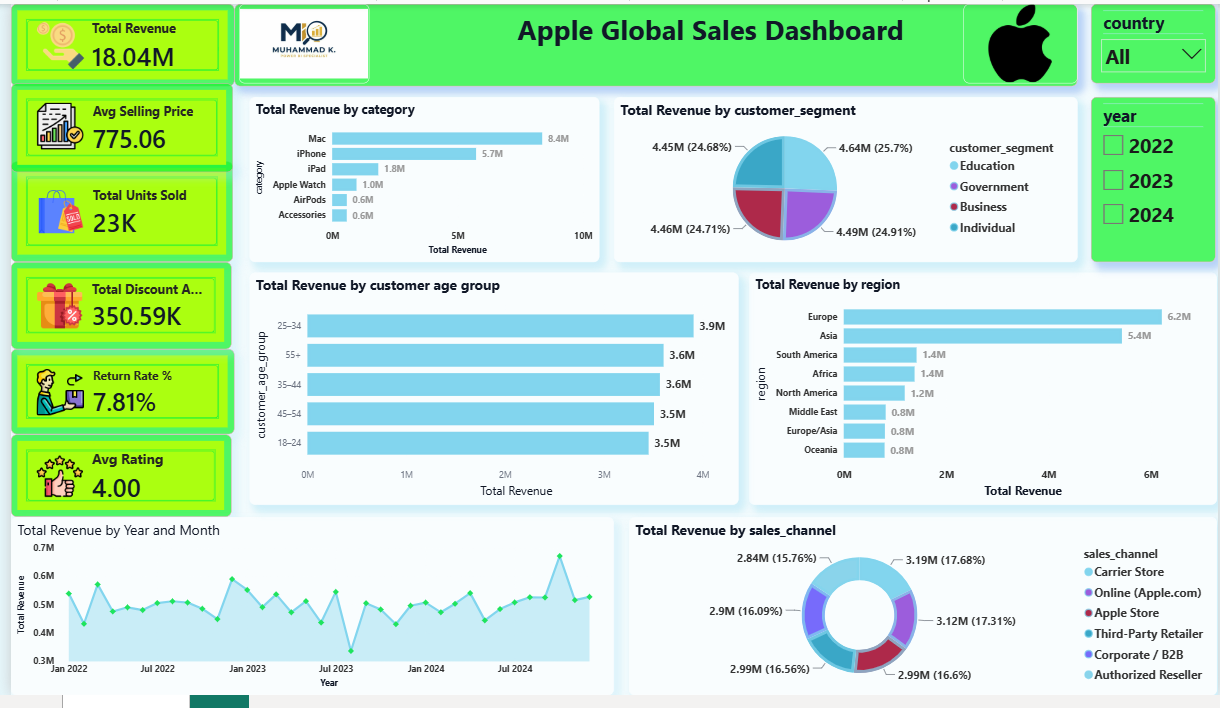

The dashboard page shown, as its layout file describes it:
{"tool":"powerbi","page":{"name":"Analysis","canvas":[1641,940],"ordinal":0},"visuals":[{"type":"cardVisual","fields":{"Data":["apple_global_sales.Total Revenue"]},"box":[0,0,304,112.2],"z":0},{"type":"group","id":"g1","title":"Group 2","box":[1470.1,0,169.4,108.2],"z":0,"group":"g2"},{"type":"slicer","fields":{"Values":["apple_global_sales.country"]},"box":[1470.1,0,169.4,108.2],"z":1000,"group":"g1"},{"type":"cardVisual","fields":{"Data":["apple_global_sales.Total Units Sold"]},"box":[0,214.3,302,136.7],"z":1000},{"type":"cardVisual","fields":{"Data":["apple_global_sales.Avg Selling Price"]},"box":[0,108.2,302,120.4],"z":2000},{"type":"cardVisual","fields":{"Data":["apple_global_sales.Return Rate %"]},"box":[0,469.3,304,116.3],"z":3000},{"type":"cardVisual","fields":{"Data":["apple_global_sales.Total Discount Amount"]},"box":[0,351,300,118.4],"z":4000},{"type":"cardVisual","fields":{"Data":["apple_global_sales.Avg Rating"]},"box":[0,585.6,300,112.2],"z":5000},{"type":"textbox","box":[304,0,1146.8,112.2],"z":6000},{"type":"image","box":[1295.8,0,155.1,108.2],"z":7000},{"type":"stackedAreaChart","fields":{"Category":["apple_global_sales.sale_date.Variation.Date Hierarchy.Year","apple_global_sales.sale_date.Variation.Date Hierarchy.Month"],"Y":["apple_global_sales.Total Revenue"]},"box":[0,697.9,820.3,242.8],"z":8000},{"type":"clusteredBarChart","fields":{"Category":["apple_global_sales.category"],"Y":["apple_global_sales.Total Revenue"]},"box":[324.5,126.5,476,224.5],"z":9000},{"type":"donutChart","fields":{"Category":["apple_global_sales.sales_channel"],"Y":["apple_global_sales.Total Revenue"]},"box":[840.7,697.9,799.9,242.8],"z":10000},{"type":"clusteredBarChart","fields":{"Category":["apple_global_sales.region"],"Y":["apple_global_sales.Total Revenue"]},"box":[1004,365.3,636.7,316.3],"z":11000},{"type":"pieChart","fields":{"Category":["apple_global_sales.customer_segment"],"Y":["apple_global_sales.Total Revenue"]},"box":[820.3,126.5,630.5,224.5],"z":12000},{"type":"clusteredBarChart","title":"Total Revenue by customer age group","fields":{"Category":["apple_global_sales.customer_age_group"],"Y":["apple_global_sales.Total Revenue"]},"box":[324.5,365.3,665.2,316.3],"z":13000},{"type":"group","id":"g2","title":"Group 1","box":[1470.1,0,169.4,108.2],"z":14000},{"type":"slicer","fields":{"Values":["apple_global_sales.year"]},"box":[1469.2,126.5,169.4,224.5],"z":15000},{"type":"image","box":[310.2,0,177.5,108.2],"z":15001}]}

Visuals, with their boxes in screenshot pixels (x1, y1, x2, y2), scaled from the page's 1641x940 canvas onto the 1220x708 screenshot:
cardVisual - apple_global_sales.Total Revenue: x1=0 y1=0 x2=226 y2=85
"Group 2" group: x1=1093 y1=0 x2=1219 y2=81
slicer - apple_global_sales.country: x1=1093 y1=0 x2=1219 y2=81
cardVisual - apple_global_sales.Total Units Sold: x1=0 y1=161 x2=225 y2=264
cardVisual - apple_global_sales.Avg Selling Price: x1=0 y1=81 x2=225 y2=172
cardVisual - apple_global_sales.Return Rate %: x1=0 y1=353 x2=226 y2=441
cardVisual - apple_global_sales.Total Discount Amount: x1=0 y1=264 x2=223 y2=354
cardVisual - apple_global_sales.Avg Rating: x1=0 y1=441 x2=223 y2=526
textbox: x1=226 y1=0 x2=1079 y2=85
image: x1=963 y1=0 x2=1079 y2=81
stackedAreaChart - apple_global_sales.sale_date.Variation.Date Hierarchy.Year x apple_global_sales.sale_date.Variation.Date Hierarchy.Month: x1=0 y1=526 x2=610 y2=707
clusteredBarChart - apple_global_sales.category x apple_global_sales.Total Revenue: x1=241 y1=95 x2=595 y2=264
donutChart - apple_global_sales.sales_channel x apple_global_sales.Total Revenue: x1=625 y1=526 x2=1219 y2=707
clusteredBarChart - apple_global_sales.region x apple_global_sales.Total Revenue: x1=746 y1=275 x2=1219 y2=513
pieChart - apple_global_sales.customer_segment x apple_global_sales.Total Revenue: x1=610 y1=95 x2=1079 y2=264
"Total Revenue by customer age group" clusteredBarChart: x1=241 y1=275 x2=736 y2=513
"Group 1" group: x1=1093 y1=0 x2=1219 y2=81
slicer - apple_global_sales.year: x1=1092 y1=95 x2=1218 y2=264
image: x1=231 y1=0 x2=363 y2=81
